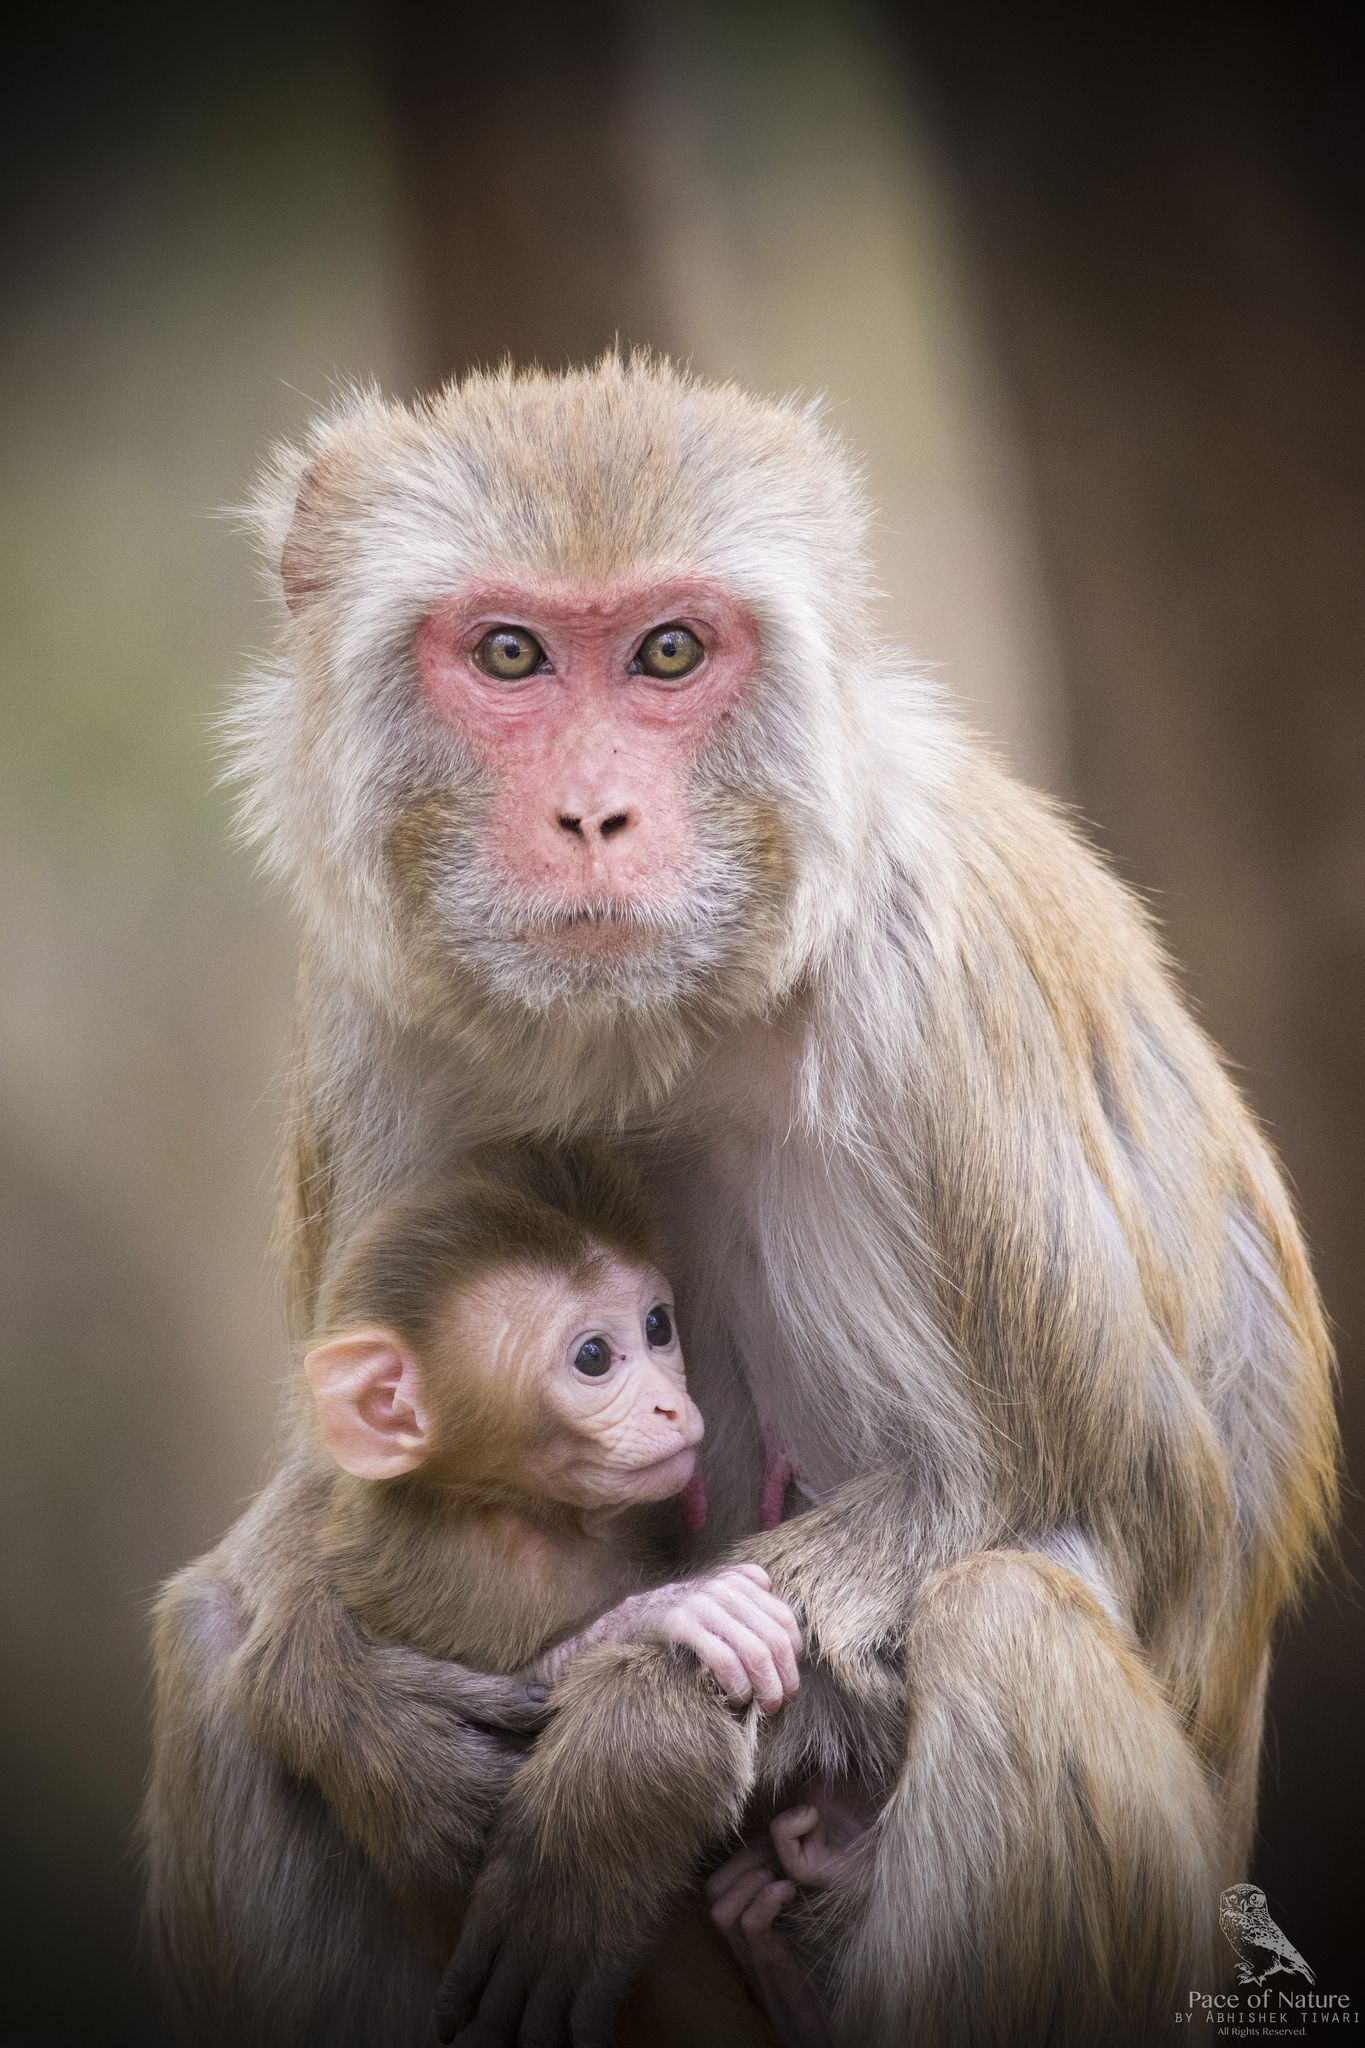monkey: (233, 355, 1335, 1949), (142, 1179, 762, 1996)
